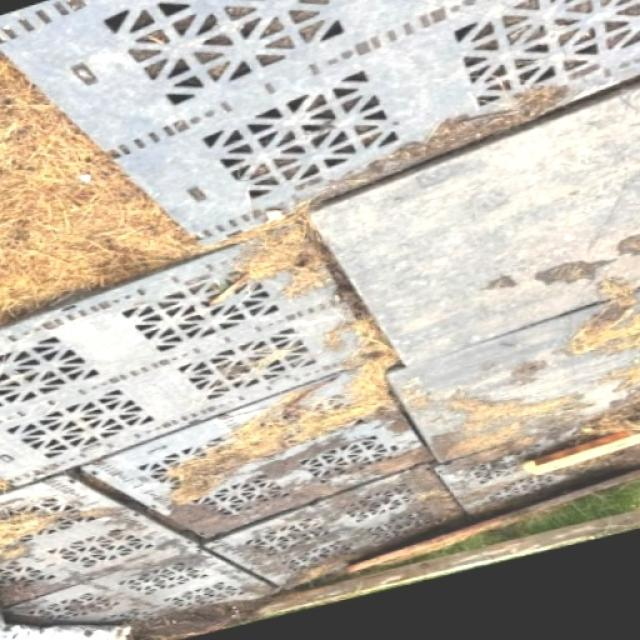non-igps: (0, 0, 639, 254), (0, 213, 375, 492), (300, 71, 640, 374), (74, 358, 469, 544), (0, 470, 204, 615)
